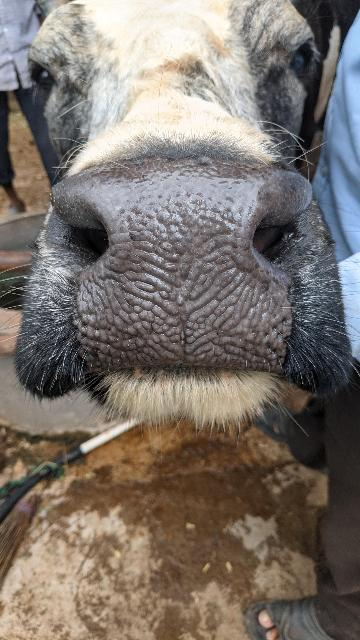Muzzle: (50, 170, 296, 374)
